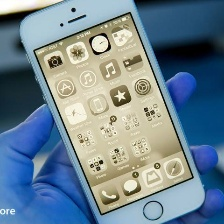phone: (15, 0, 209, 224)
